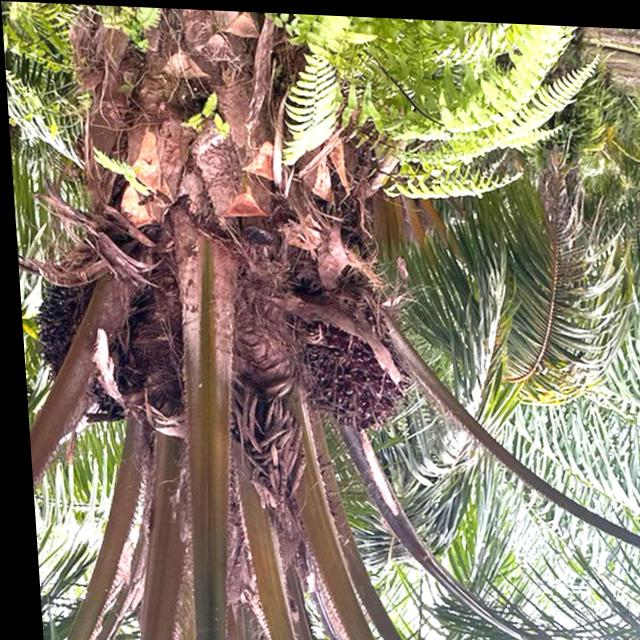ripe: (283, 311, 397, 435)
